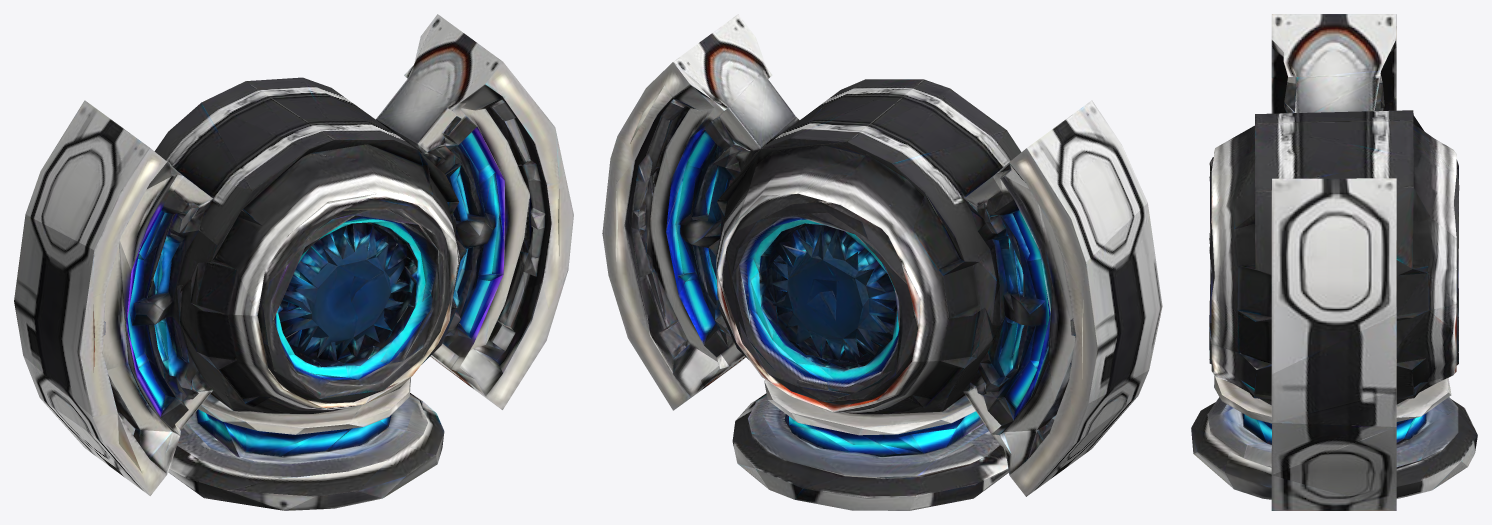
File: skill-overcharge.glb
3 views of the same model, side by side, from view 1: azimuth 30°, elevation 25°; view 2: azimuth 150°, elevation 25°; view 3: azimuth 270°, elevation 25° (orthographic). The views are drawn at different scales.
Bounding box in the file's own units: 1.9 × 1.35 × 0.9969.
1 material, 1 textured.
